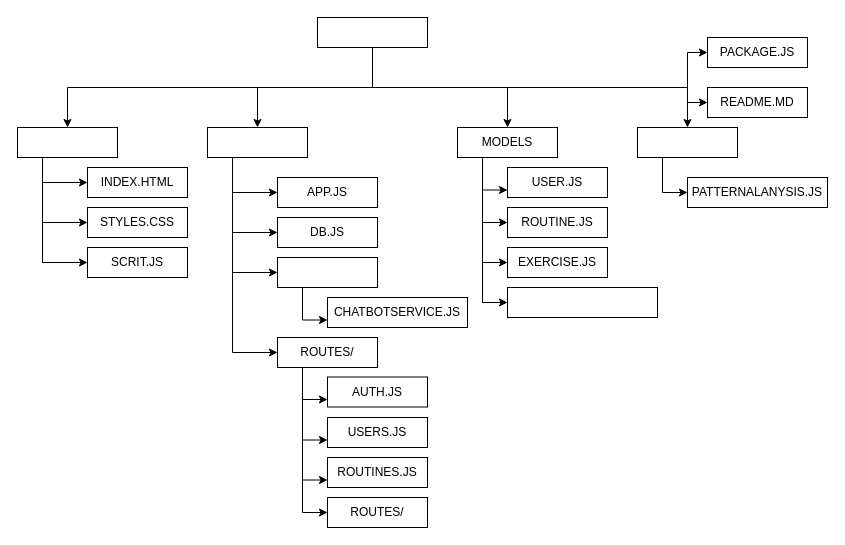
The diagram is 845 pixels wide and 545 high, and some of its shapes have lost their labels. Each missing label, with the box of its shape:
AI/: (276, 256, 378, 288)
MESSAGEHISTORIY.JS: (506, 286, 658, 318)
PROJETO TEA: (316, 16, 428, 48)
PUBLIC/: (16, 126, 118, 158)
SERVER/: (206, 126, 308, 158)
UTILS/: (636, 126, 738, 158)
